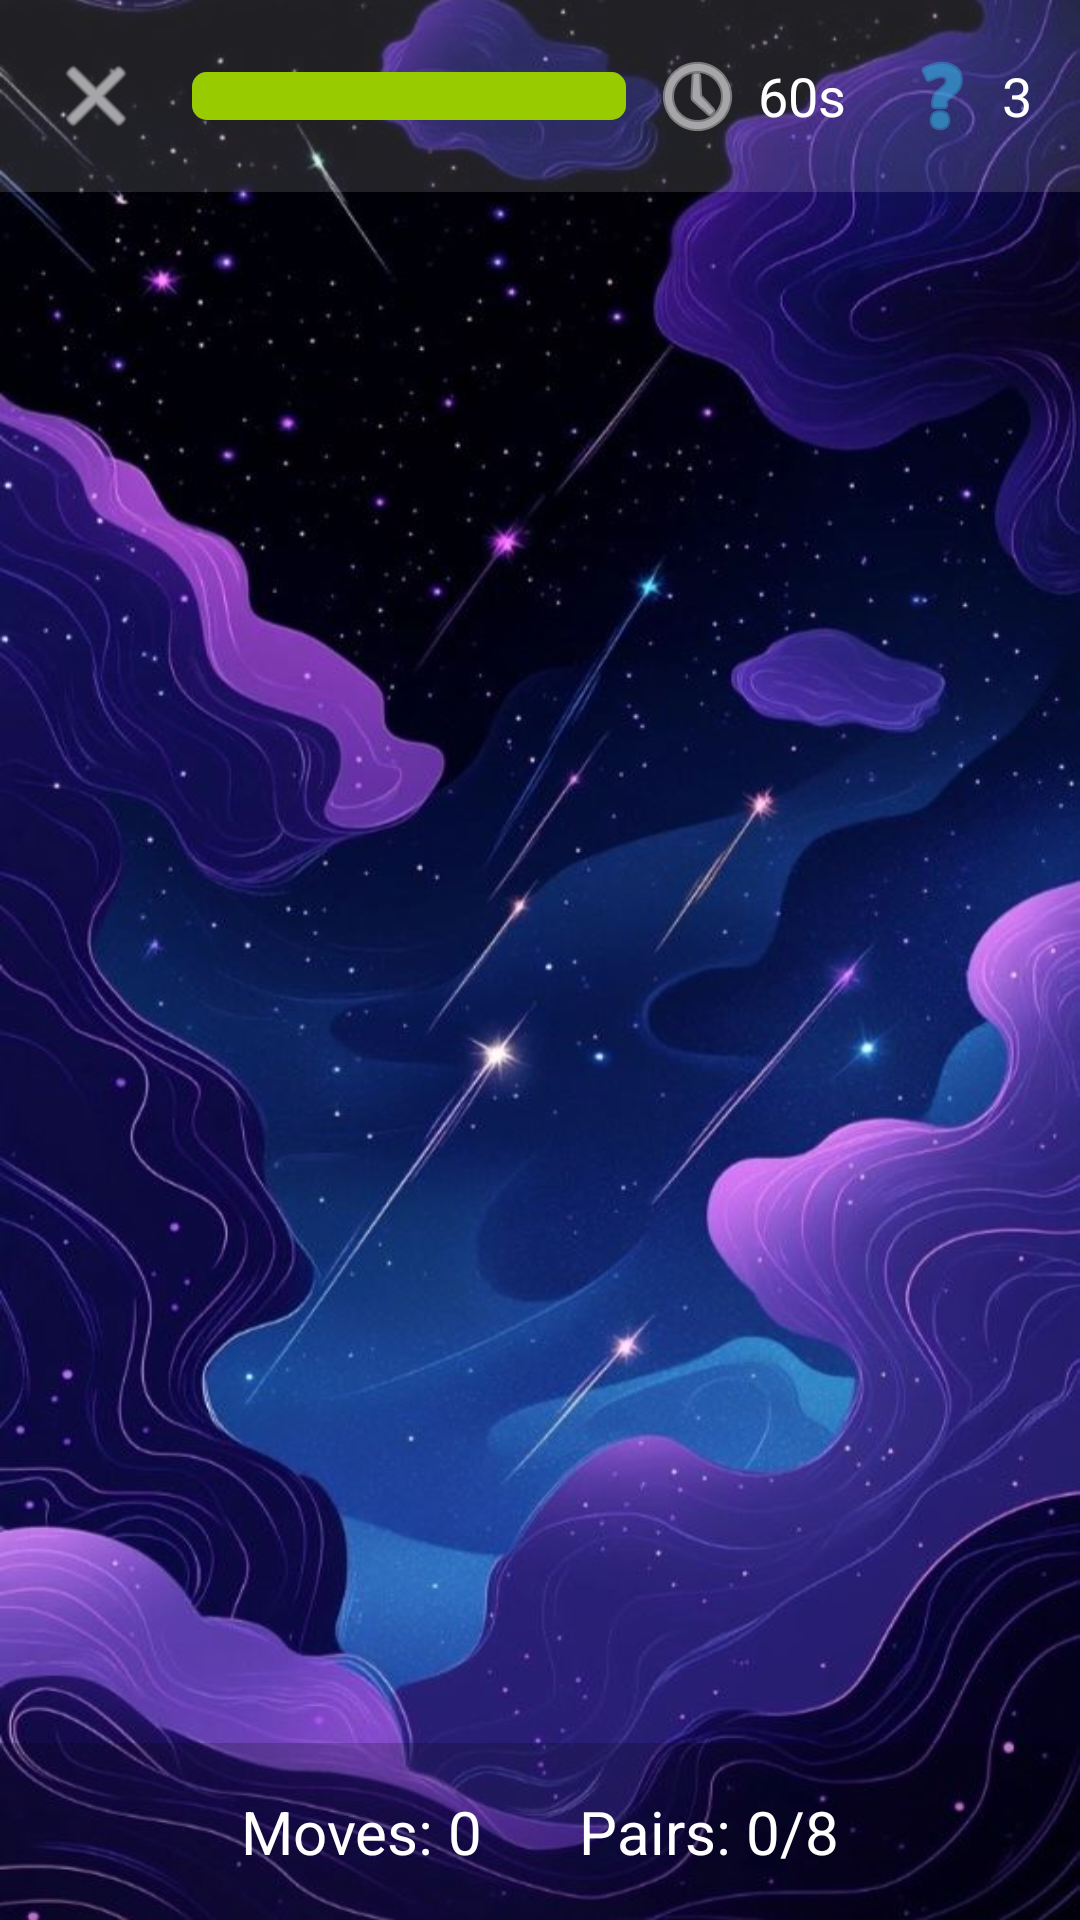

Icon bounding boxes for this 1080w x 1920h phone screenshot, format (x1, y1, x2, y2):
Back: (60, 66, 155, 165)
Hint: (894, 48, 990, 144)
Time: (650, 55, 746, 144)
